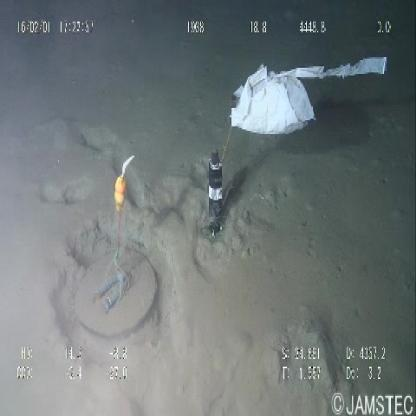Rov: (72, 142, 228, 340)
Rác: (226, 54, 392, 142)
